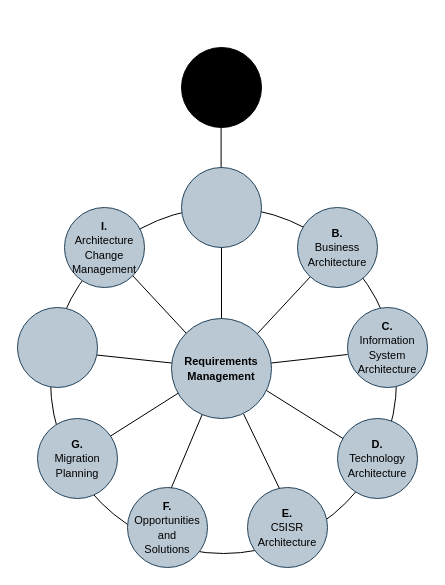
The diagram is 445 pixels wide and 585 high, and some of its shapes have lost their labels. Here are the shapes that lost their labels. From the top down, the box of each, then its label:
(180, 166, 262, 248): A. Architecture Vision
(16, 306, 98, 388): H. Implementation Governance
